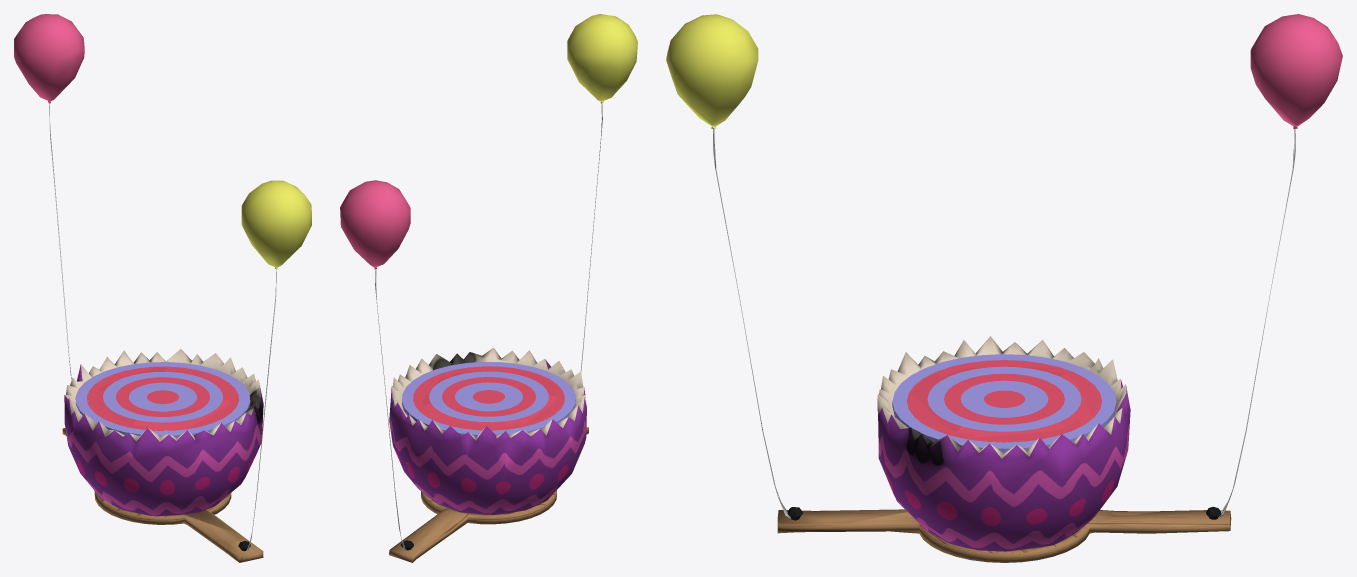
Rendered from Target.fbx.
3 renders of one model, left to right at view 1: azimuth 30°, elevation 25°; view 2: azimuth 150°, elevation 25°; view 3: azimuth 270°, elevation 25°, orthographic. The views are drawn at different scales.
Visible parts, largest first — view 1: egg, target, balloon, balloon.001, Circle, balloon path.001, balloon path; view 2: egg, target, balloon.001, balloon, Circle, balloon path; view 3: egg, target, Circle, balloon, balloon.001.
Part boxes in pixels (left/top/right/bottom): egg: left=64, top=349, right=263, bottom=516; target: left=75, top=362, right=250, bottom=437; balloon: left=14, top=14, right=84, bottom=103; balloon.001: left=241, top=180, right=311, bottom=269; Circle: left=62, top=428, right=263, bottom=562; balloon path.001: left=246, top=269, right=276, bottom=551; balloon path: left=49, top=103, right=71, bottom=379; egg: left=389, top=347, right=586, bottom=514; target: left=402, top=361, right=575, bottom=437; balloon.001: left=567, top=14, right=637, bottom=103; balloon: left=340, top=180, right=410, bottom=269; Circle: left=389, top=427, right=588, bottom=562; balloon path: left=375, top=269, right=406, bottom=550; egg: left=877, top=336, right=1130, bottom=551; target: left=892, top=354, right=1116, bottom=452; Circle: left=777, top=506, right=1231, bottom=562; balloon: left=1250, top=14, right=1342, bottom=128; balloon.001: left=666, top=14, right=758, bottom=129.
Size of the model in its own units: 554 by 1252 by 1462.
